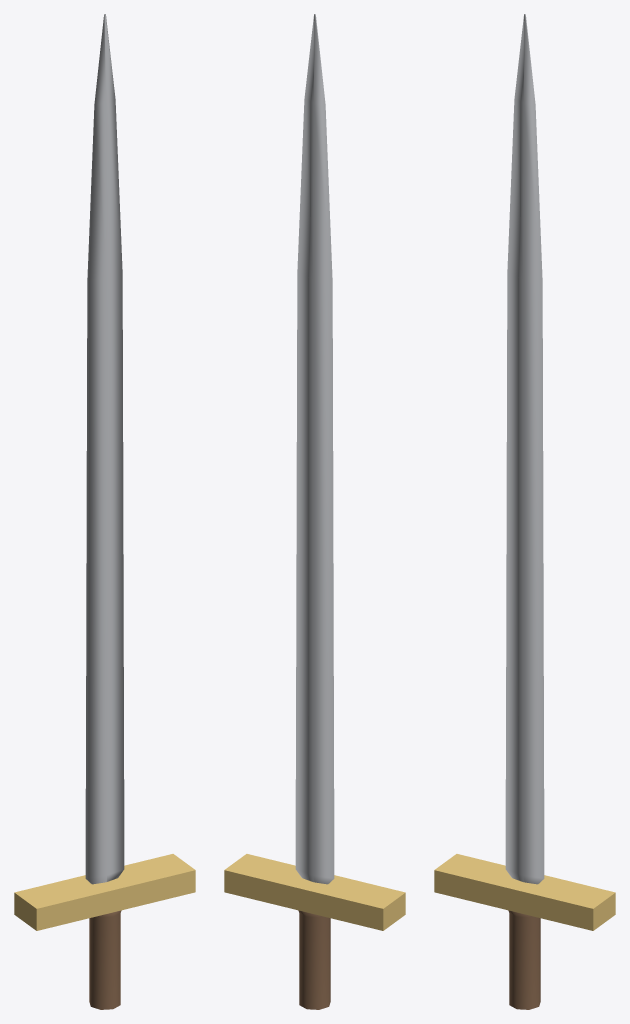
Rendered from Sword.glb.
3 views of the same model, side by side, from view 1: azimuth 30°, elevation 25°; view 2: azimuth 150°, elevation 25°; view 3: azimuth 330°, elevation 25° (orthographic).
Visible parts, largest first — view 1: Sword; view 2: Sword; view 3: Sword.
Boxes of the visible parts, left/top/right/bottom form: Sword: left=14, top=14, right=195, bottom=1009; Sword: left=224, top=14, right=405, bottom=1009; Sword: left=434, top=14, right=615, bottom=1009.
Bounding box in the file's own units: 0.18 × 1.07 × 0.044.
